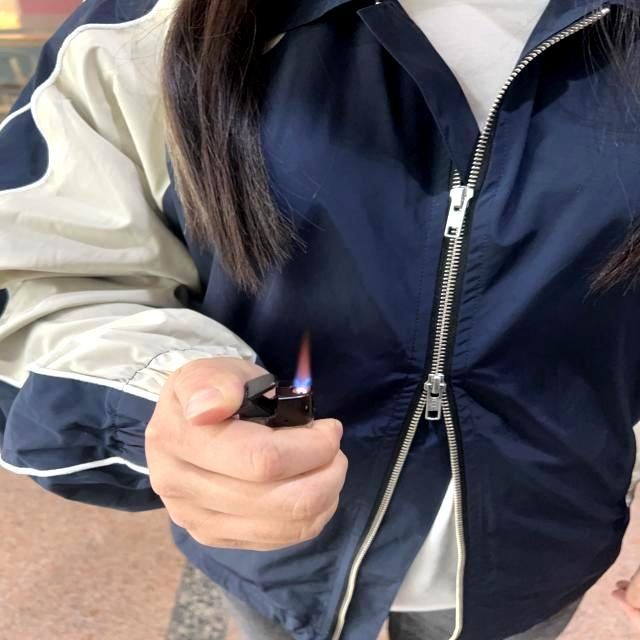fire: (294, 331, 310, 393)
